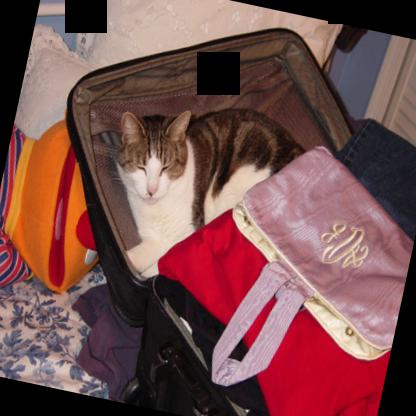handbag: (210, 145, 413, 388)
suitcase: (67, 26, 416, 416)
